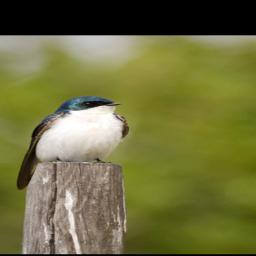Swallow: (15, 92, 133, 191)
